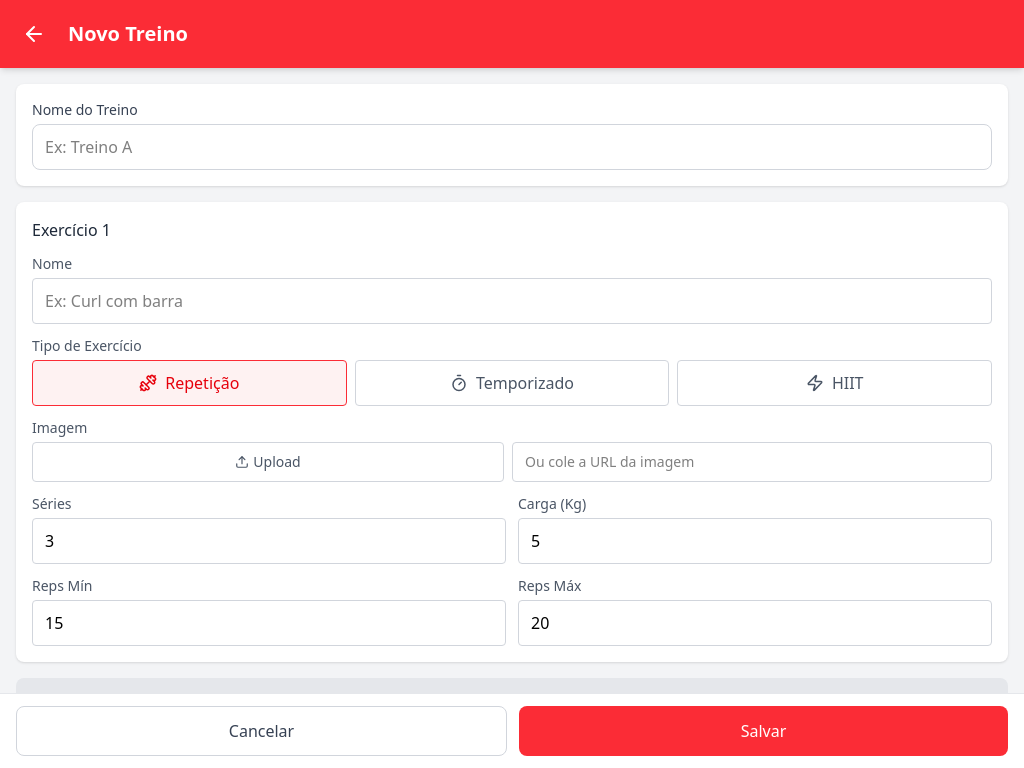
Test: WorkoutForm - Exercise Type › shows HIIT fields when selecting hiit type
The width and height of the screenshot is (1024, 768).
Step 1. Click the button "HIIT" → (835, 383), box [677,360,992,406]
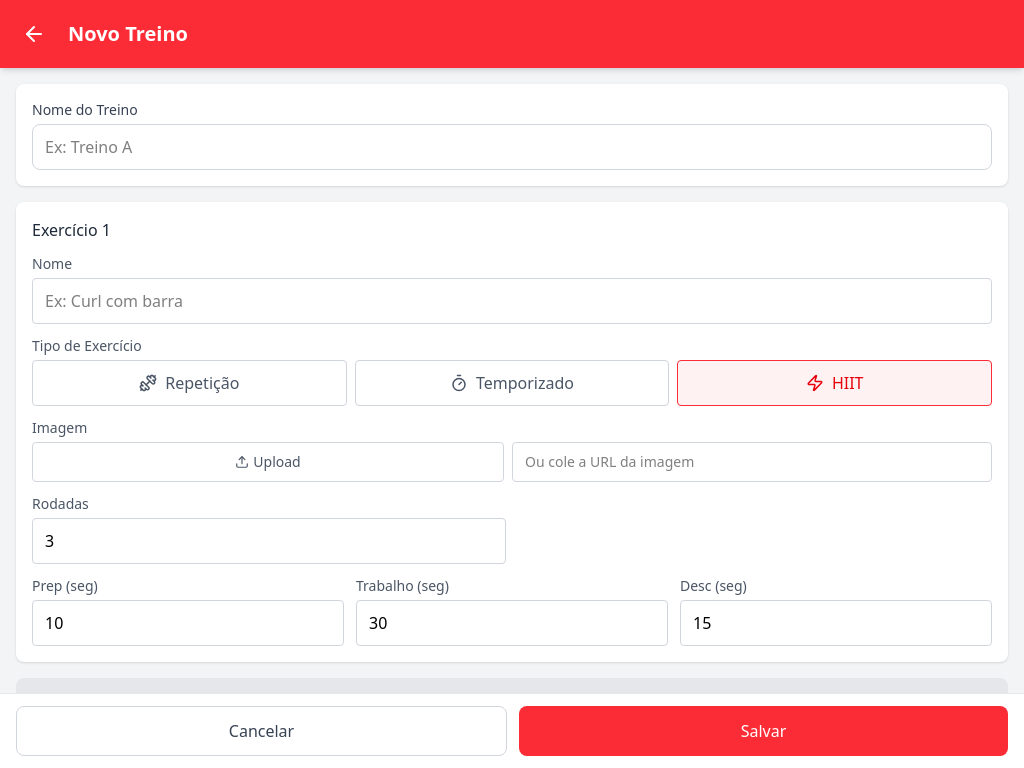
Result: the text "Rodadas" is shown at [32,494,89,513]
Result: the text "Prep (seg)" is shown at [32,576,98,595]
Result: the text "Trabalho (seg)" is shown at [356,576,449,595]
